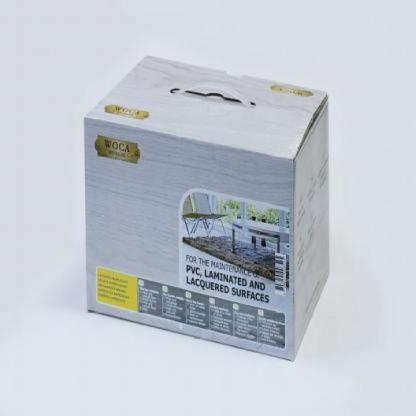-: (80, 42, 339, 371)
